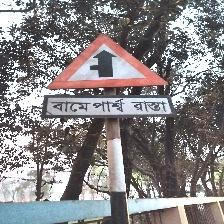Side-road-left: (42, 33, 176, 121)
